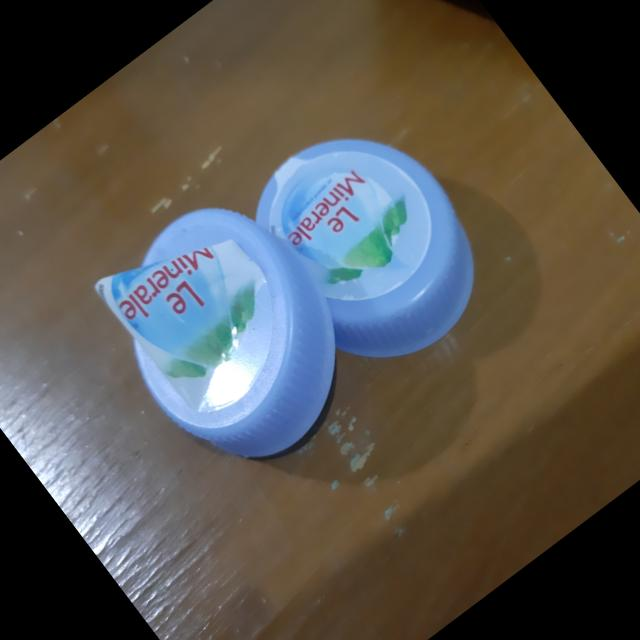TutupGalon: (44, 41, 556, 544)
